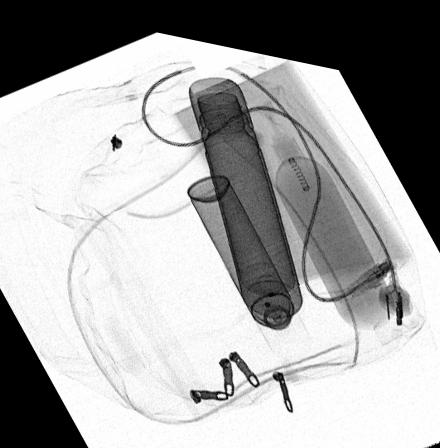Sprayer: (188, 165, 314, 342)
